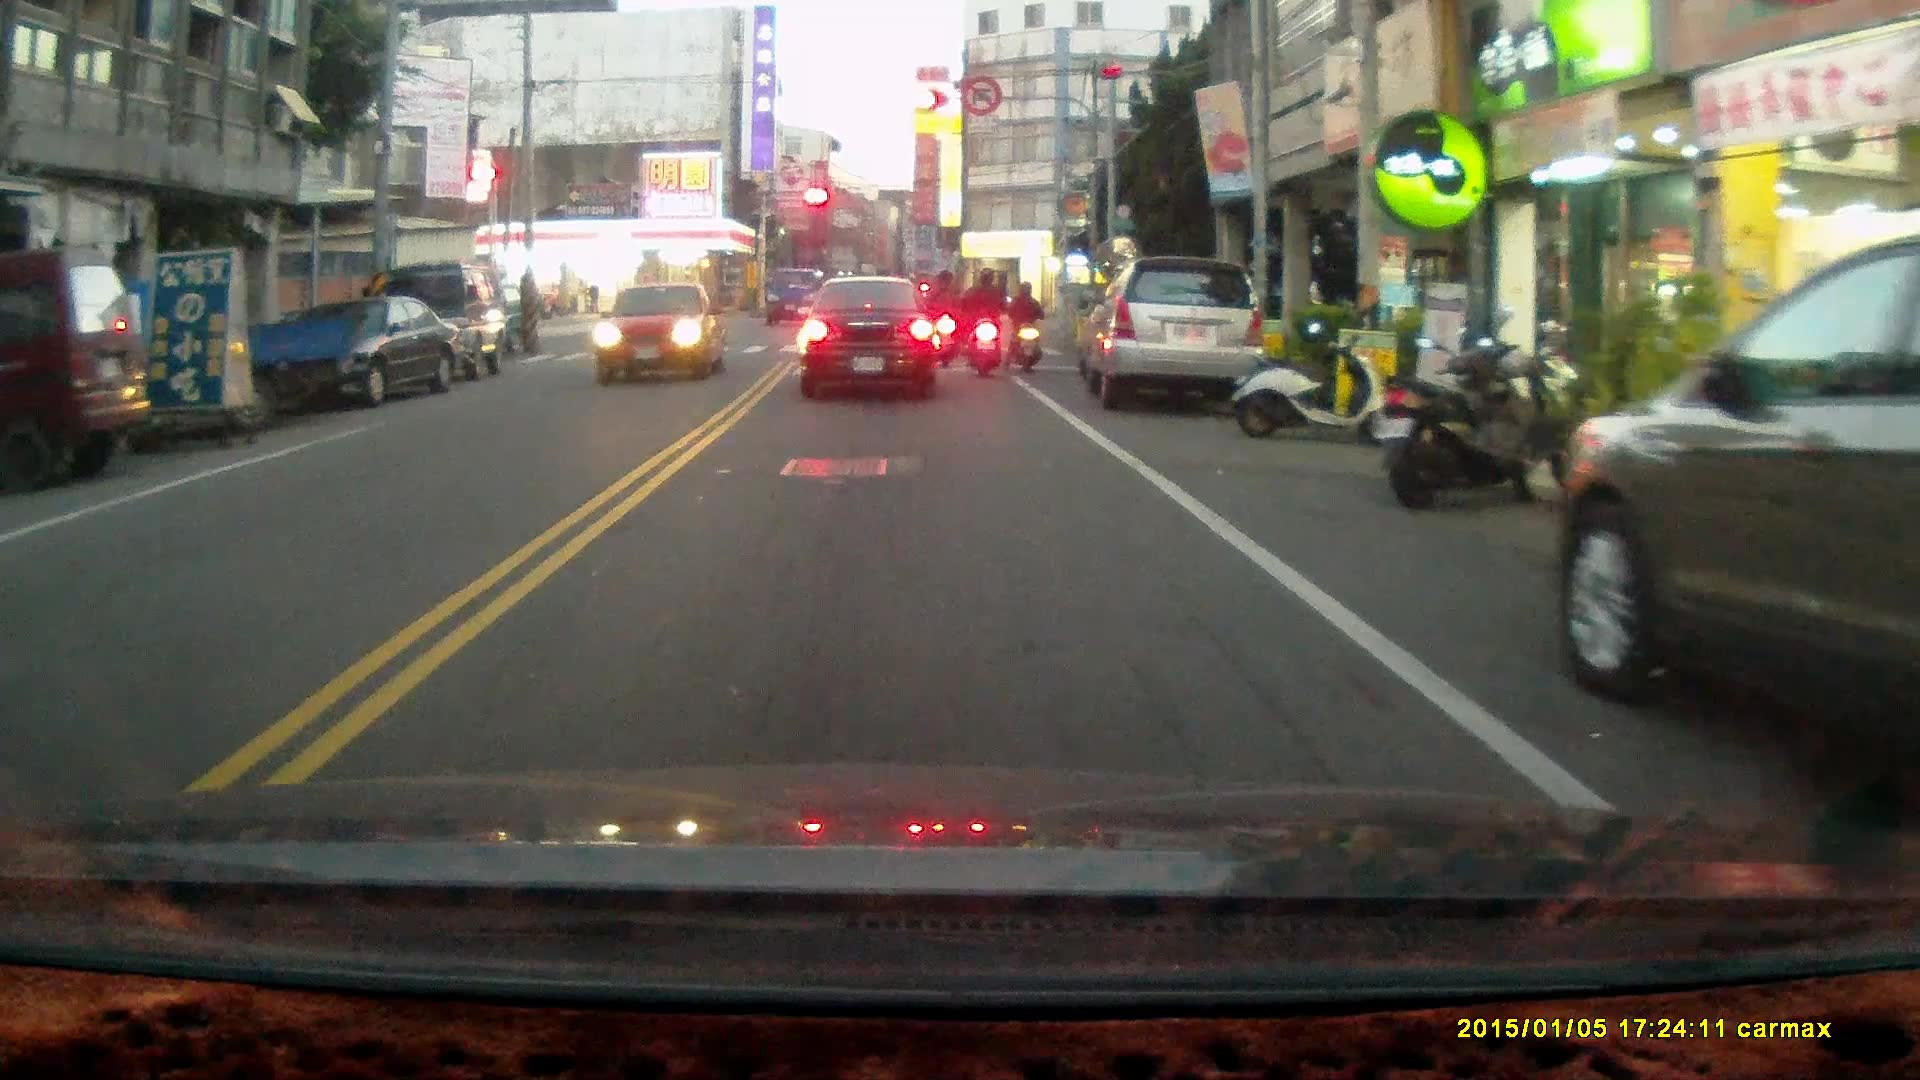rider: (959, 268, 1010, 380), (926, 269, 963, 370), (1008, 281, 1045, 377)
vehicle: (1548, 228, 1920, 824), (1, 249, 157, 479), (1079, 255, 1272, 420), (248, 293, 467, 408), (799, 274, 942, 403), (373, 257, 514, 387), (593, 282, 721, 386)
